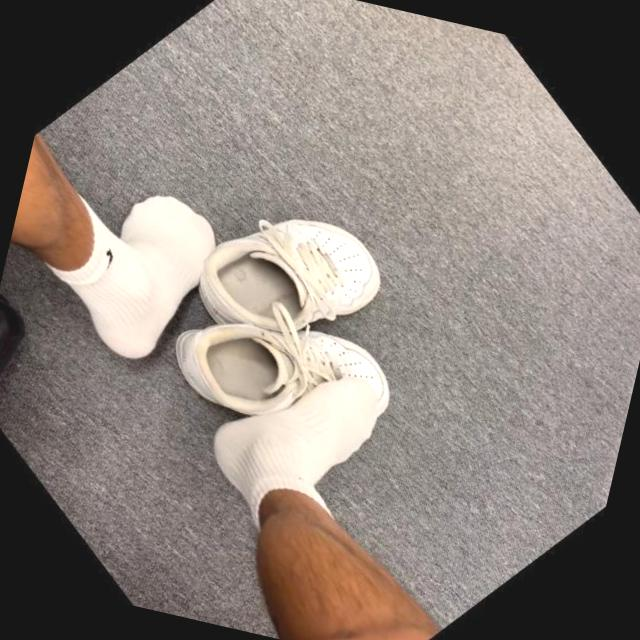nike_original_airforce: (123, 223, 441, 536), (156, 142, 424, 413)
